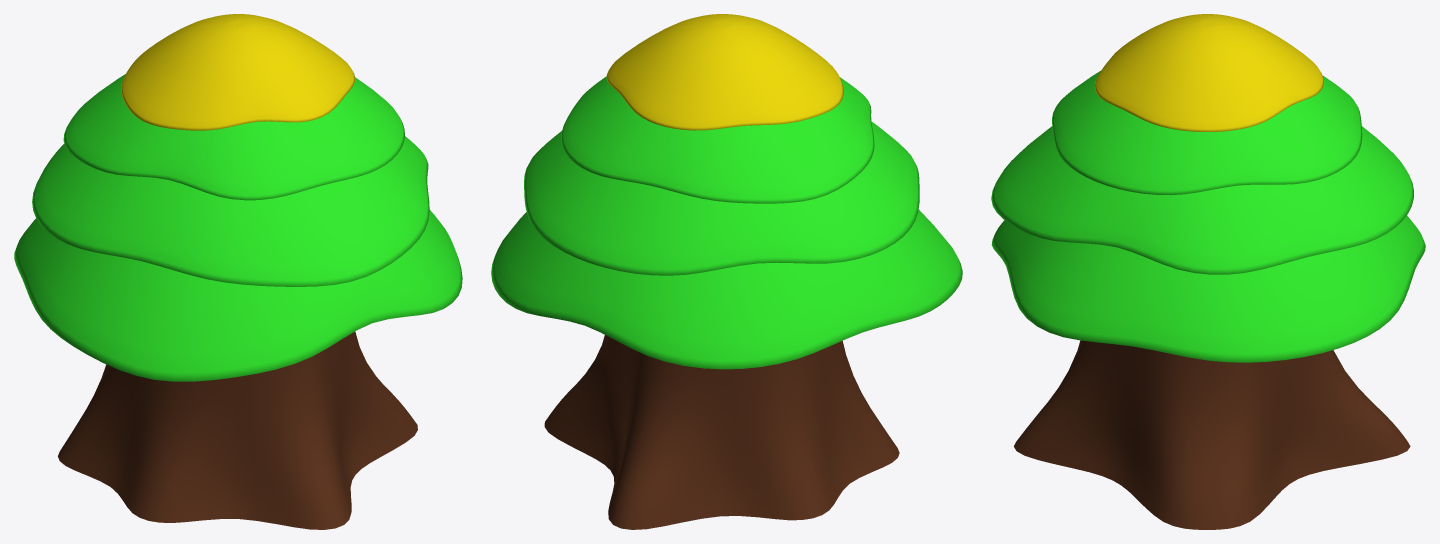
The model's file is Arbre (1).fbx.
3 renders of one model, left to right at view 1: azimuth 30°, elevation 25°; view 2: azimuth 150°, elevation 25°; view 3: azimuth 270°, elevation 25°, orthographic.
Visible parts, largest first — view 1: pCylinder5; view 2: pCylinder5; view 3: pCylinder5.
Part boxes in pixels (x1,y1,x2,y2): pCylinder5: [14, 14, 462, 529]; pCylinder5: [491, 14, 962, 529]; pCylinder5: [991, 14, 1425, 529].
Bounding box in the file's own units: 74.77 × 78 × 72.28.
